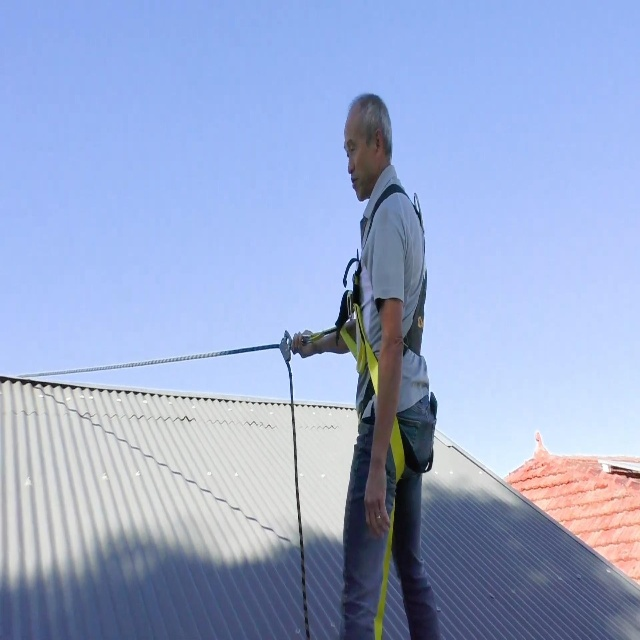Arnes_seguridad: (328, 180, 437, 626)
